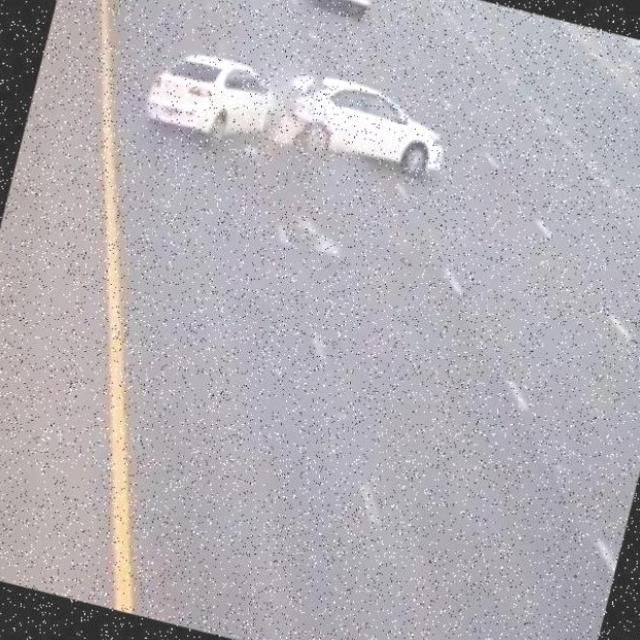accident: (137, 33, 459, 203)
